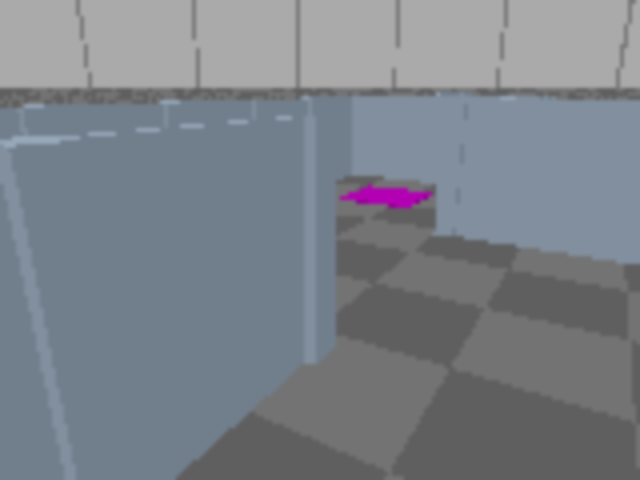goal_zone: (338, 186, 433, 209)
